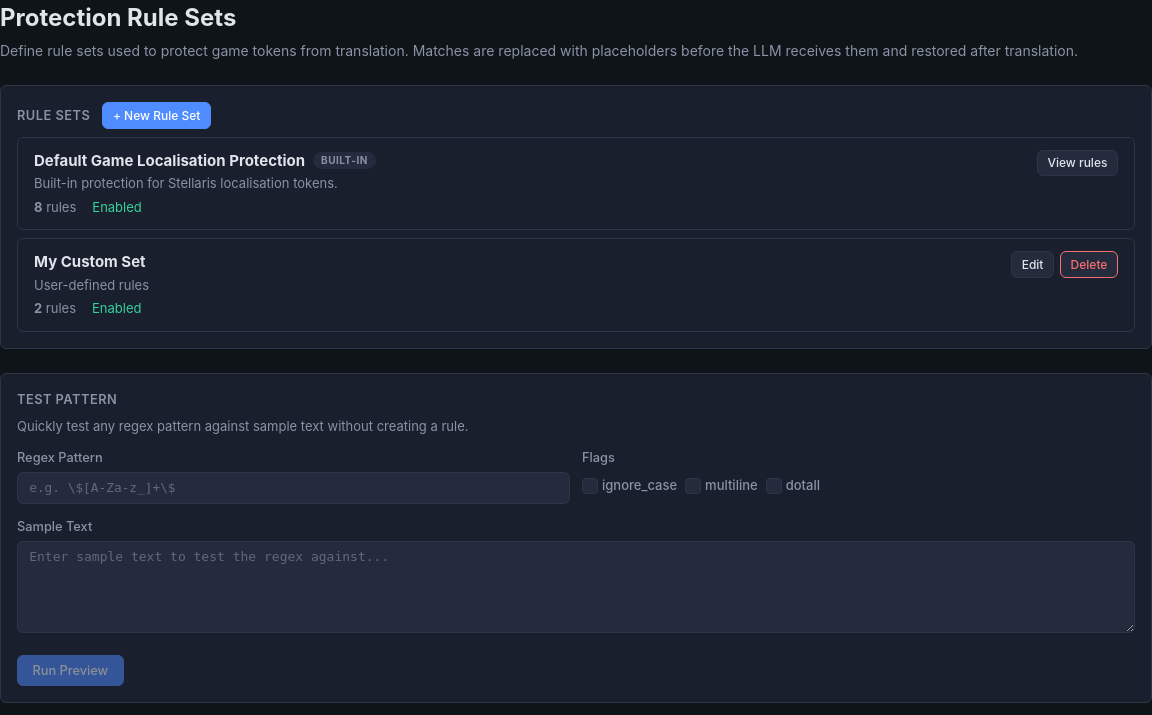
Test: ProtectionRules — rule-set-centric UI › rule kind dropdown has all 4 options with labels
Click the text "My Custom Set": [90, 262] box [34,251,146,274]
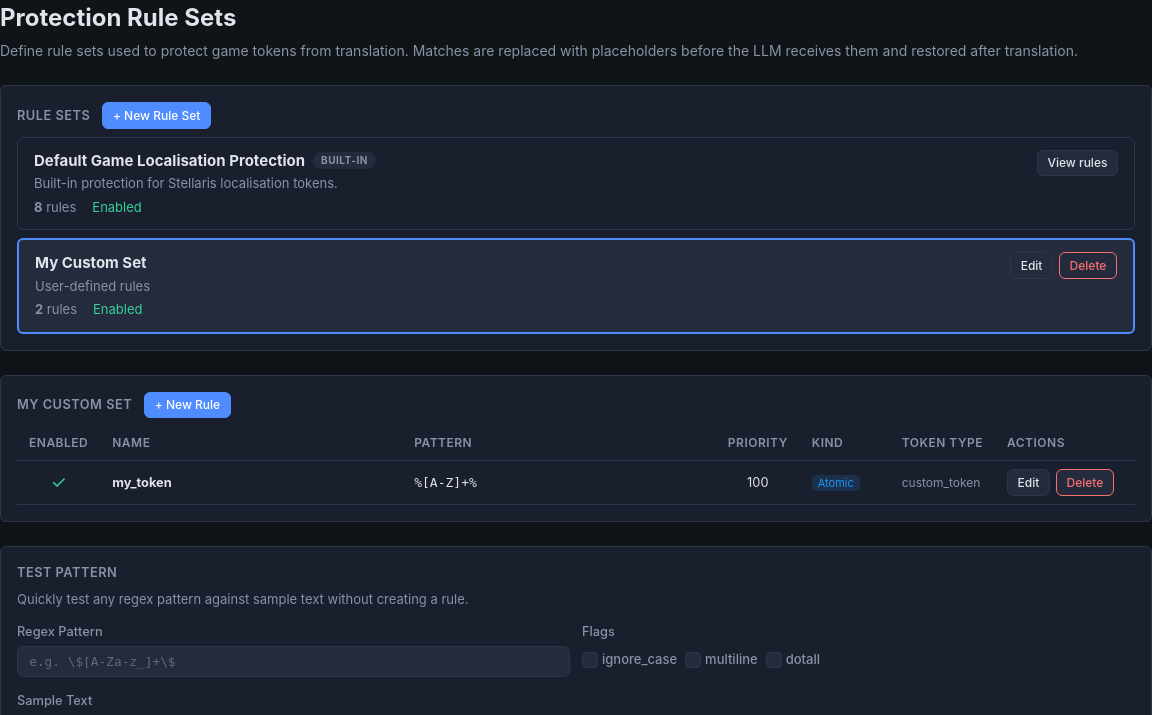
Expected: the button "+ New Rule" is shown
Click the button "+ New Rule": [187, 405] box [144,392,231,418]
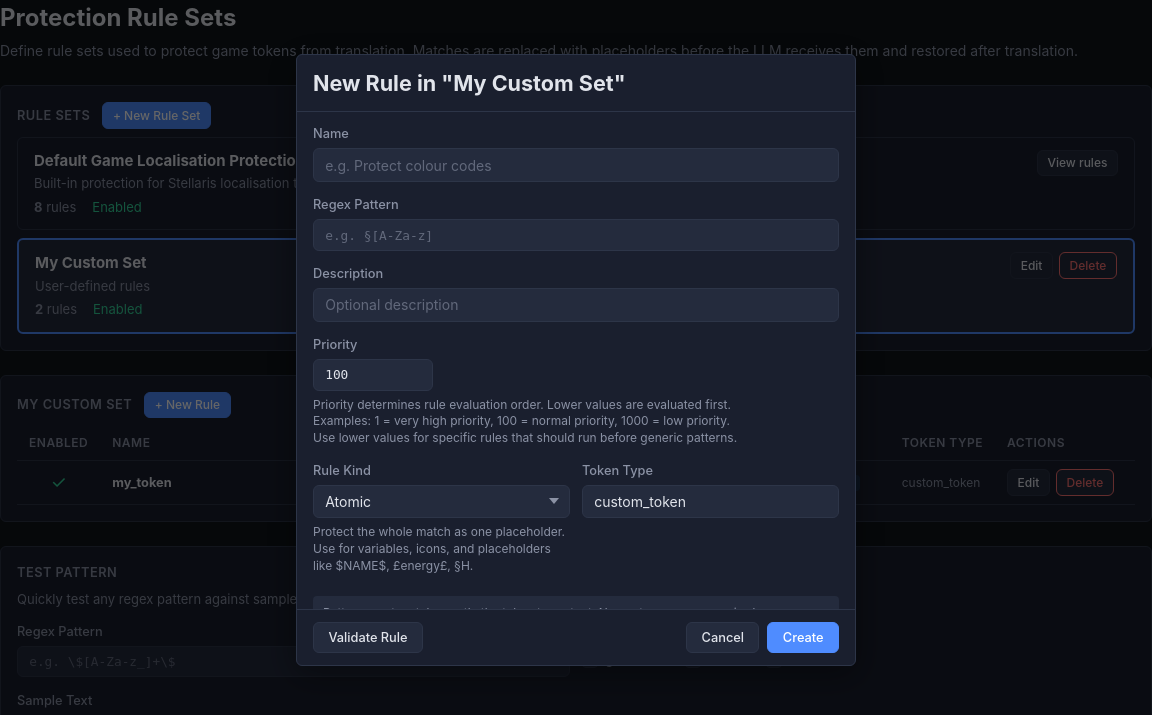
Expected: the heading "New Rule in \"My Custom Set\"" is shown, [313,67,626,99]
